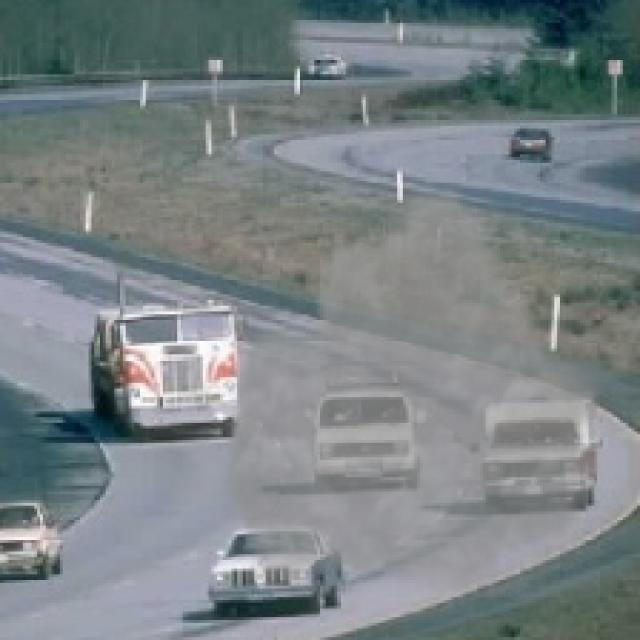Smoke: (217, 175, 612, 600)
